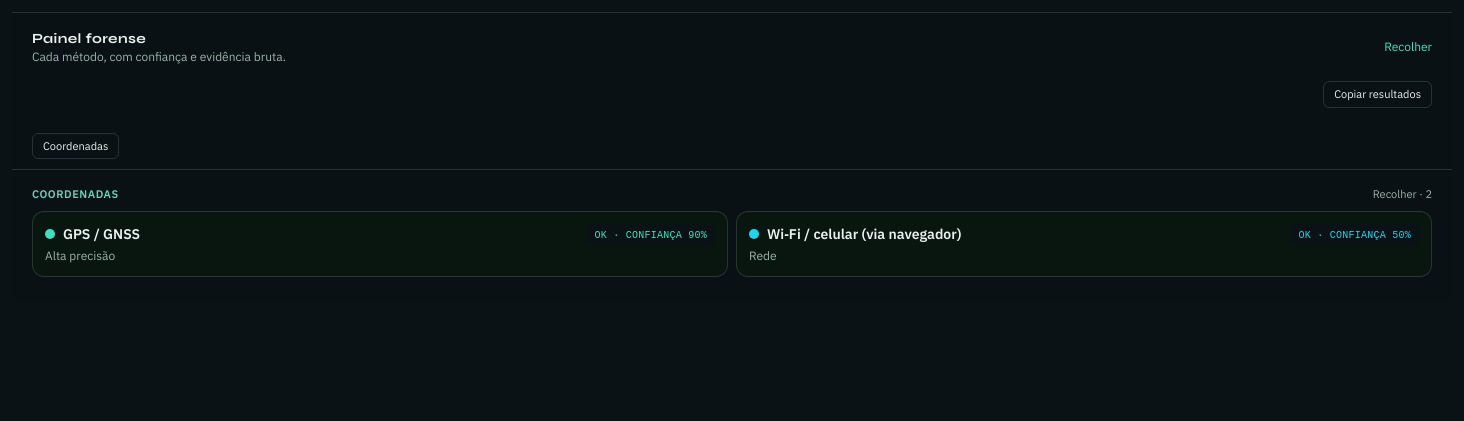
Scenario: ForensicsPanel › keeps multiple signal cards selected and discloses raw on demand
The width and height of the screenshot is (1464, 421).
Click the button "GPS / GNSS Alta precisão ok · confiança 90%".
click(102, 234)  # box 33,212 -> 727,276
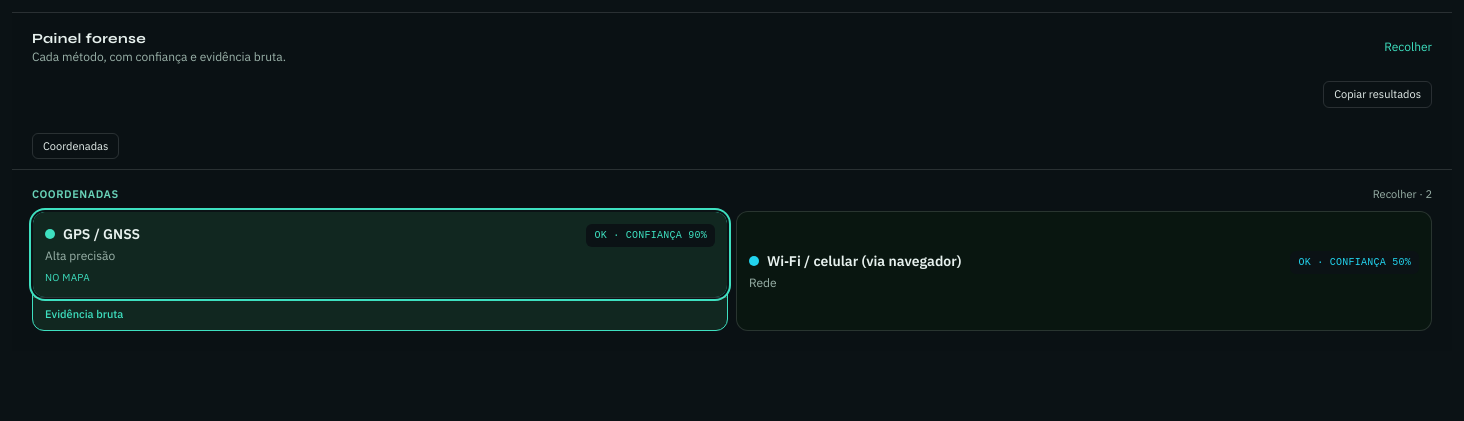
Click the button "Wi‑Fi / celular (via navegador) Rede ok · confiança 50%".
click(864, 261)  # box 737,212 -> 1431,330
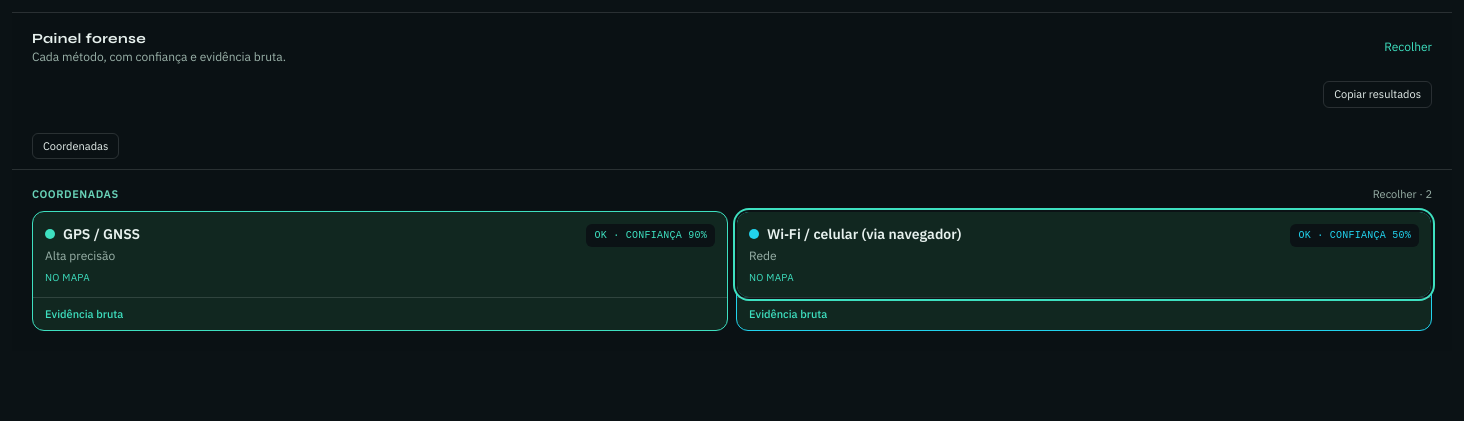
Expected: the text "\"kind\": \"gps\"" is not shown
Result: the number of buttons "Evidência bruta" is 2
Click the 1st button "Evidência bruta".
click(84, 314)  # box 45,306 -> 123,322
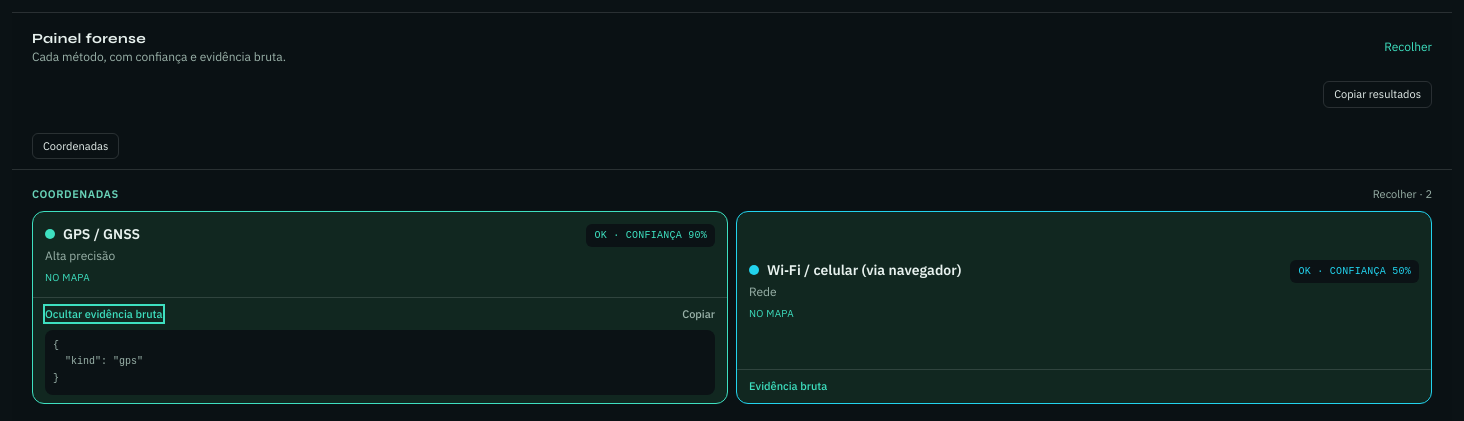
Click the button "Evidência bruta".
click(788, 387)  # box 749,378 -> 827,395
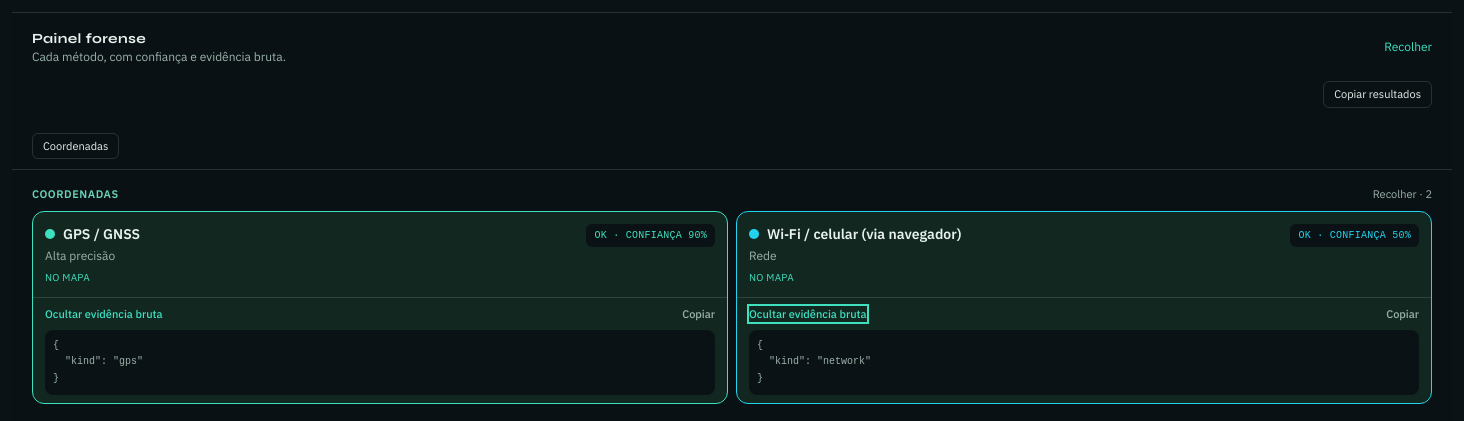
Result: the text "{ \"kind\": \"gps\" }" is shown at 45,330 -> 715,395
Result: the text "{ \"kind\": \"network\" }" is shown at 749,330 -> 1419,395
